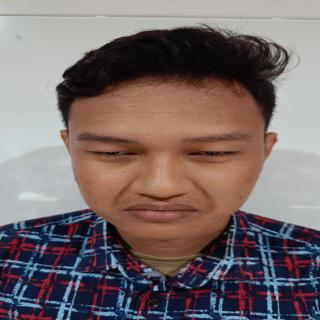Sedih: (66, 80, 271, 247)
